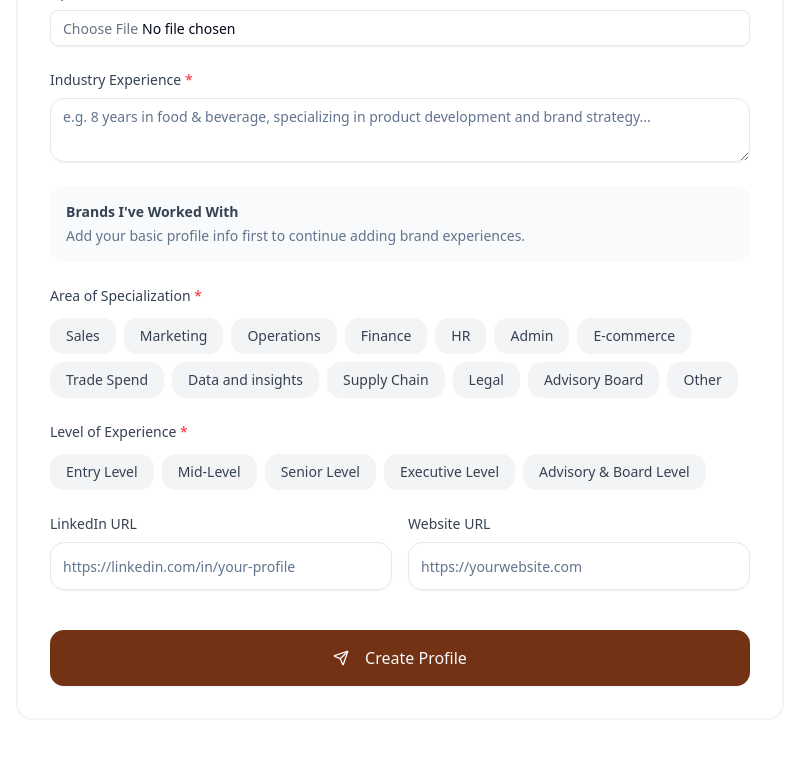
Test: TalentOnboarding Component › Area of Specialization Selection › should show Other input when Other is clicked
The image size is (801, 760).
(page scrolled)
Click the button "Other": [703, 380] box [668, 362, 738, 398]
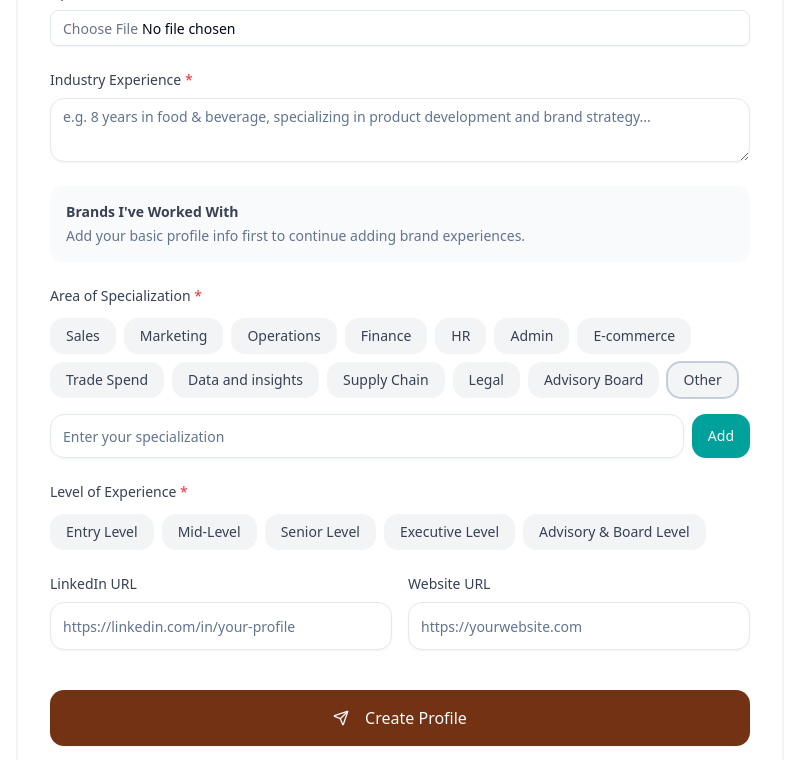
Check: the field with placeholder "Enter your specialization" is shown, box [50, 414, 684, 458]
